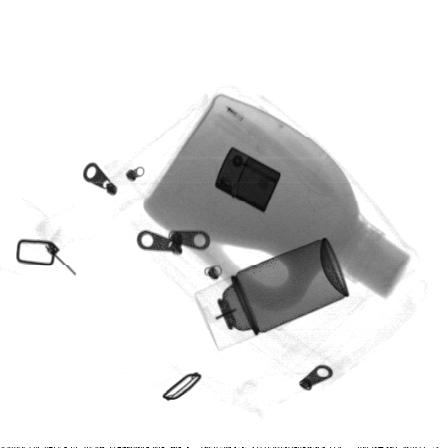Lighter: (215, 147, 281, 213)
Sprayer: (194, 237, 348, 352)
